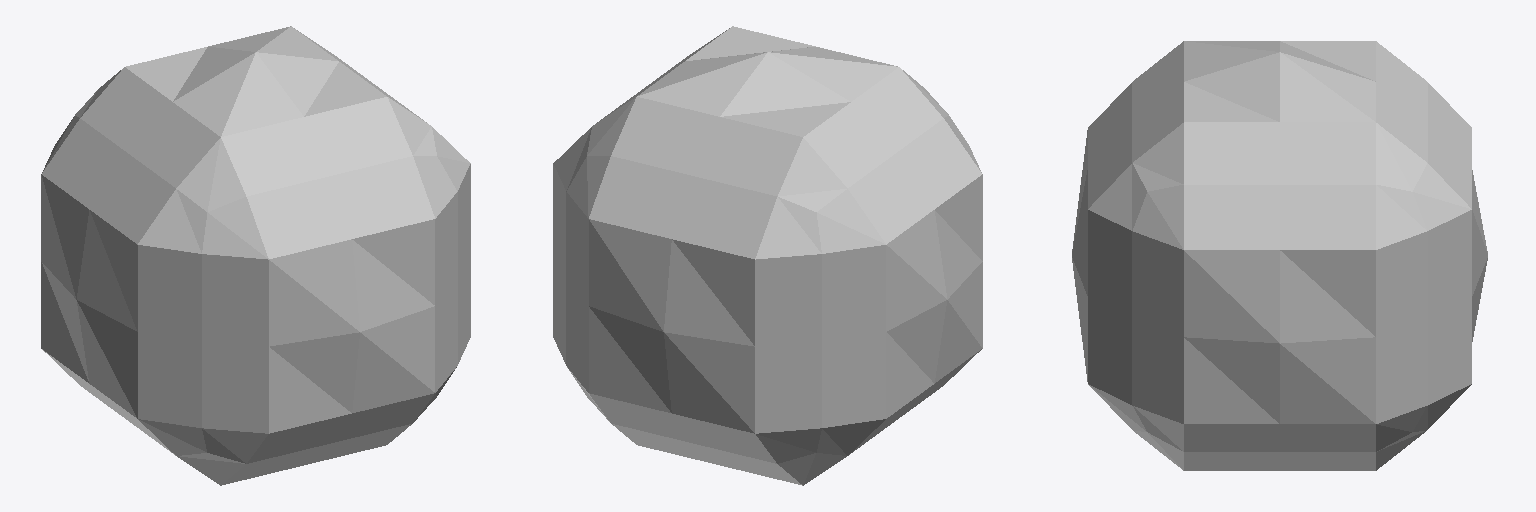
The model's file is types_sphere.obj.
3 views of the same model, side by side, from view 1: azimuth 30°, elevation 25°; view 2: azimuth 150°, elevation 25°; view 3: azimuth 270°, elevation 25° (orthographic).
Visible parts, largest first — view 1: Cube_Cube.001; view 2: Cube_Cube.001; view 3: Cube_Cube.001.
Part boxes in pixels (x1,y1,x2,y2): Cube_Cube.001: (41, 26, 470, 485); Cube_Cube.001: (553, 26, 982, 485); Cube_Cube.001: (1072, 41, 1487, 470).
Size of the model in its own units: 2.15 by 2.34 by 2.17.